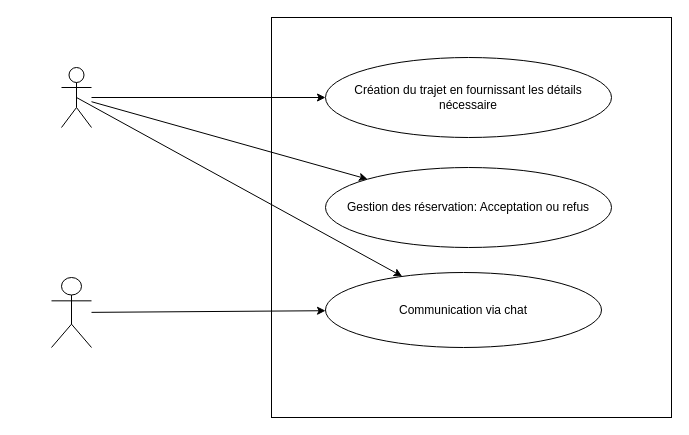
Image size: 689x435. Some labels were removed from this diagram. Each missing label, with the centre of its shape:
"Utilisateur Conducteur" goes at point (76, 97).
"Utilisateur passager" goes at point (71, 312).
